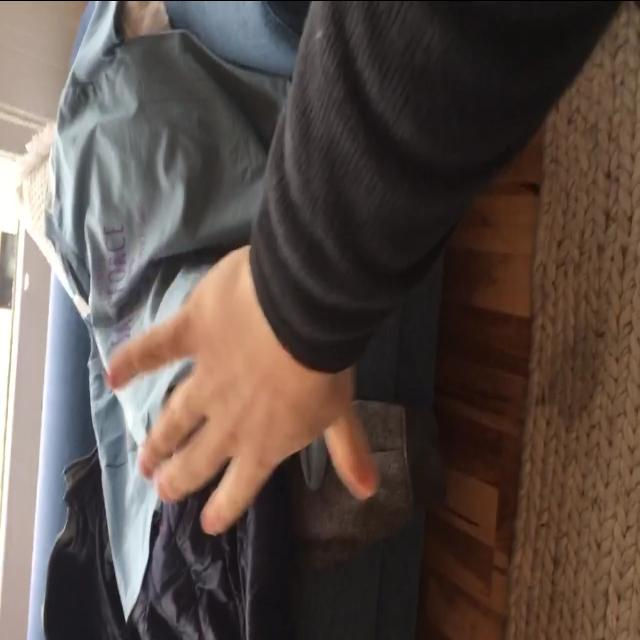Paper: (105, 247, 384, 535)
